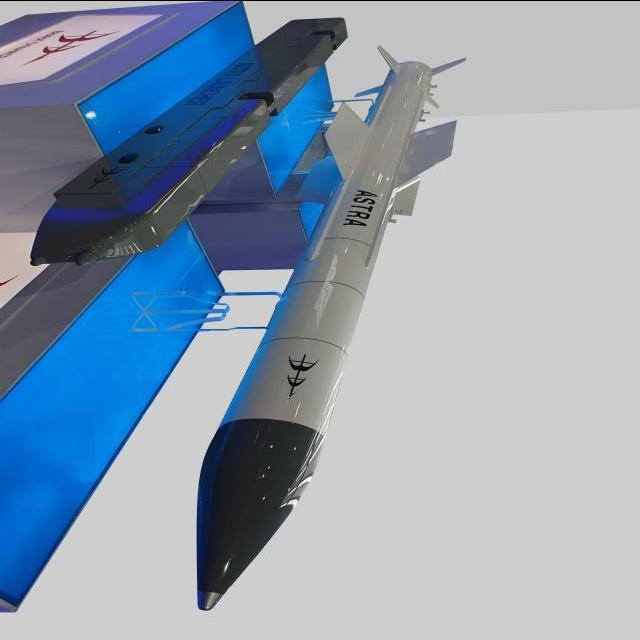Missile: (186, 40, 452, 619)
